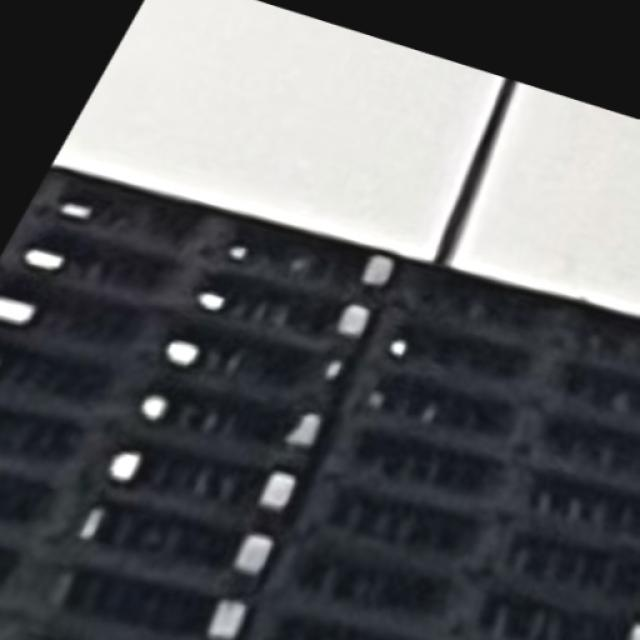igps: (17, 149, 409, 310), (0, 198, 388, 352), (279, 456, 640, 615), (0, 260, 364, 408), (244, 519, 640, 640), (311, 409, 640, 546), (0, 330, 341, 460), (0, 395, 317, 532), (331, 348, 640, 487), (350, 299, 640, 434), (0, 463, 295, 591), (375, 256, 640, 378), (0, 535, 269, 640), (232, 592, 430, 640)
